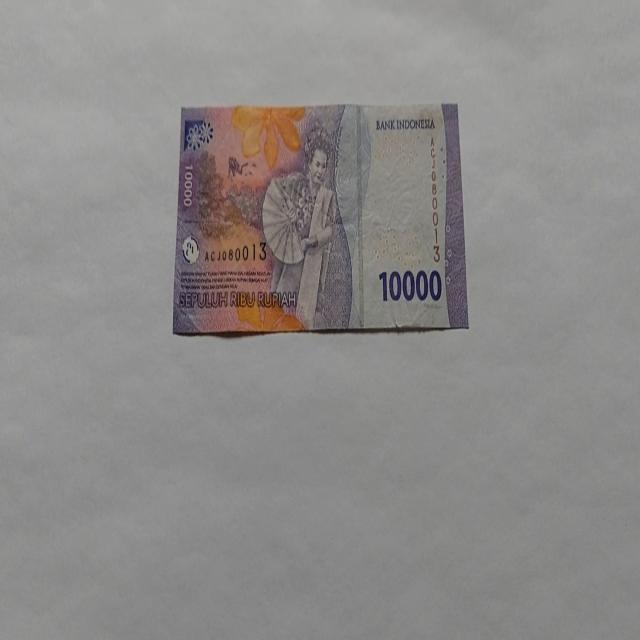sepuluh ribu rupiah: (172, 100, 468, 337)
